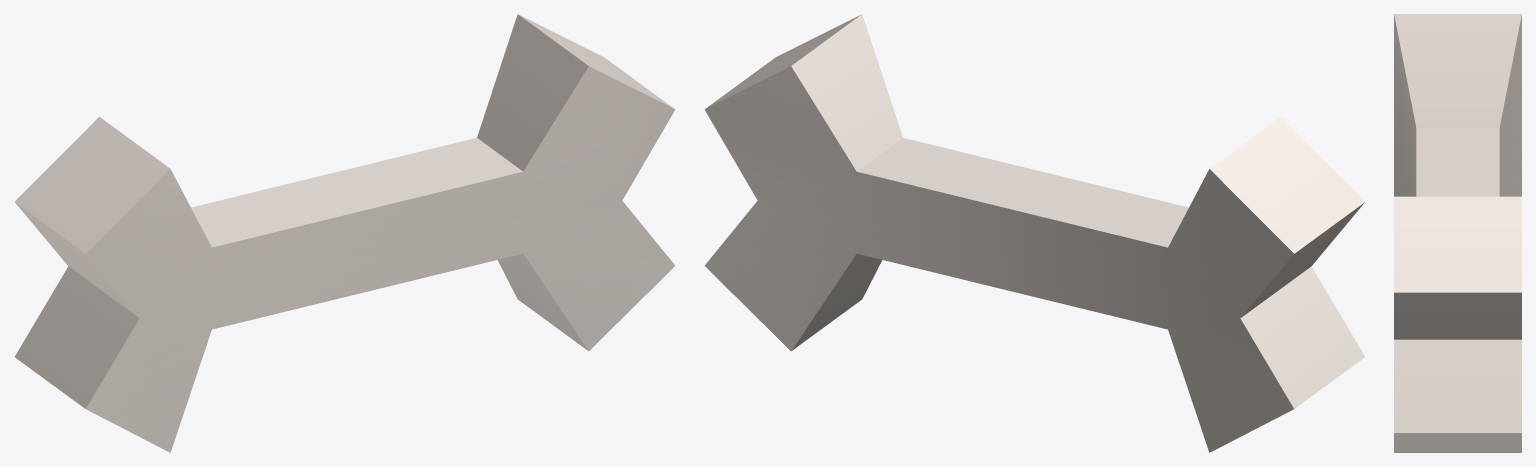
File: bone.fbx
The picture shows the model from 3 angles, left to right: view 1: azimuth 30°, elevation 25°; view 2: azimuth 150°, elevation 25°; view 3: azimuth 270°, elevation 25°; orthographic projection. The views are drawn at different scales.
Parts seen in each view (by area): view 1: Cube.041; view 2: Cube.041; view 3: Cube.041.
Part boxes in pixels (x1,y1,x2,y2): Cube.041: (15, 14, 675, 452); Cube.041: (704, 14, 1364, 452); Cube.041: (1394, 14, 1521, 452).
Size of the model in its own units: 0.5627 by 0.2602 by 0.1176.
